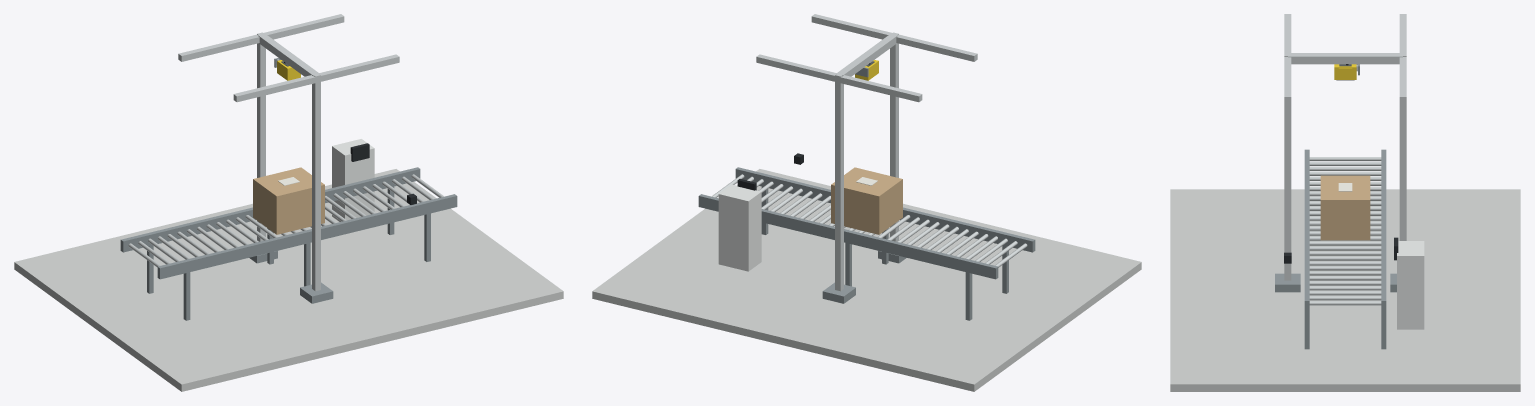
The picture shows the model from 3 angles, left to right: view 1: azimuth 30°, elevation 25°; view 2: azimuth 150°, elevation 25°; view 3: azimuth 270°, elevation 25°; orthographic projection. The views are drawn at different scales.
Parts seen in each view (by area): view 1: Floor, Conveyor side rail, Parcel, Conveyor side rail.001, Control cabinet, Extrusion upright, Longitudinal top frame, Longitudinal top frame.001, Extrusion upright.001, Overhead crossbeam; view 2: Floor, Conveyor side rail.001, Control cabinet, Parcel, Conveyor side rail, Extrusion upright.001, Longitudinal top frame.001, Longitudinal top frame, Extrusion upright, Overhead crossbeam; view 3: Floor, Parcel, Control cabinet, Extrusion upright, Overhead crossbeam, Extrusion upright.001, Conveyor side rail, Conveyor side rail.001, Longitudinal top frame, Longitudinal top frame.001, Anchor foot, Conveyor roller.017 (+15 smaller).
Boxes of the visible parts, bbox=[...] form: Floor: bbox=[14, 169, 563, 391]; Conveyor side rail: bbox=[157, 194, 457, 279]; Parcel: bbox=[253, 167, 324, 234]; Conveyor side rail.001: bbox=[120, 167, 420, 252]; Control cabinet: bbox=[332, 139, 374, 221]; Extrusion upright: bbox=[312, 74, 320, 291]; Longitudinal top frame: bbox=[233, 54, 399, 102]; Longitudinal top frame.001: bbox=[178, 14, 344, 61]; Extrusion upright.001: bbox=[257, 32, 265, 241]; Overhead crossbeam: bbox=[258, 33, 319, 76]; Floor: bbox=[592, 169, 1141, 391]; Conveyor side rail.001: bbox=[698, 194, 998, 279]; Control cabinet: bbox=[718, 184, 761, 271]; Parcel: bbox=[831, 167, 902, 234]; Conveyor side rail: bbox=[735, 167, 1035, 252]; Extrusion upright.001: bbox=[835, 74, 843, 291]; Longitudinal top frame.001: bbox=[756, 54, 922, 102]; Longitudinal top frame: bbox=[811, 14, 977, 61]; Extrusion upright: bbox=[890, 32, 898, 241]; Overhead crossbeam: bbox=[836, 33, 897, 76]; Floor: bbox=[1170, 189, 1520, 391]; Parcel: bbox=[1320, 175, 1370, 240]; Control cabinet: bbox=[1397, 241, 1424, 329]; Extrusion upright: bbox=[1284, 53, 1291, 280]; Overhead crossbeam: bbox=[1288, 53, 1402, 64]; Extrusion upright.001: bbox=[1399, 53, 1406, 240]; Conveyor side rail: bbox=[1304, 149, 1309, 312]; Conveyor side rail.001: bbox=[1381, 149, 1386, 312]; Longitudinal top frame: bbox=[1284, 14, 1291, 103]; Longitudinal top frame.001: bbox=[1399, 14, 1406, 103]; Anchor foot: bbox=[1275, 273, 1300, 292]; Conveyor roller.017: bbox=[1309, 241, 1381, 245].
Bounding box in the file's own units: 5.4 × 3.1 × 4.1.
